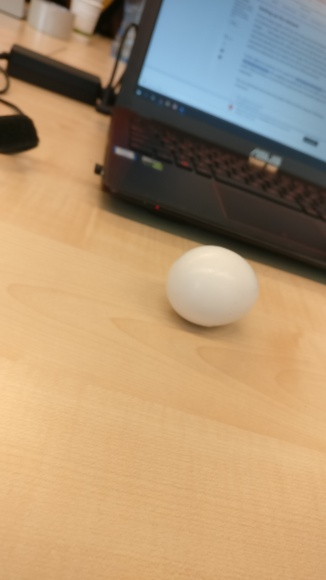egg: (165, 245, 260, 330)
